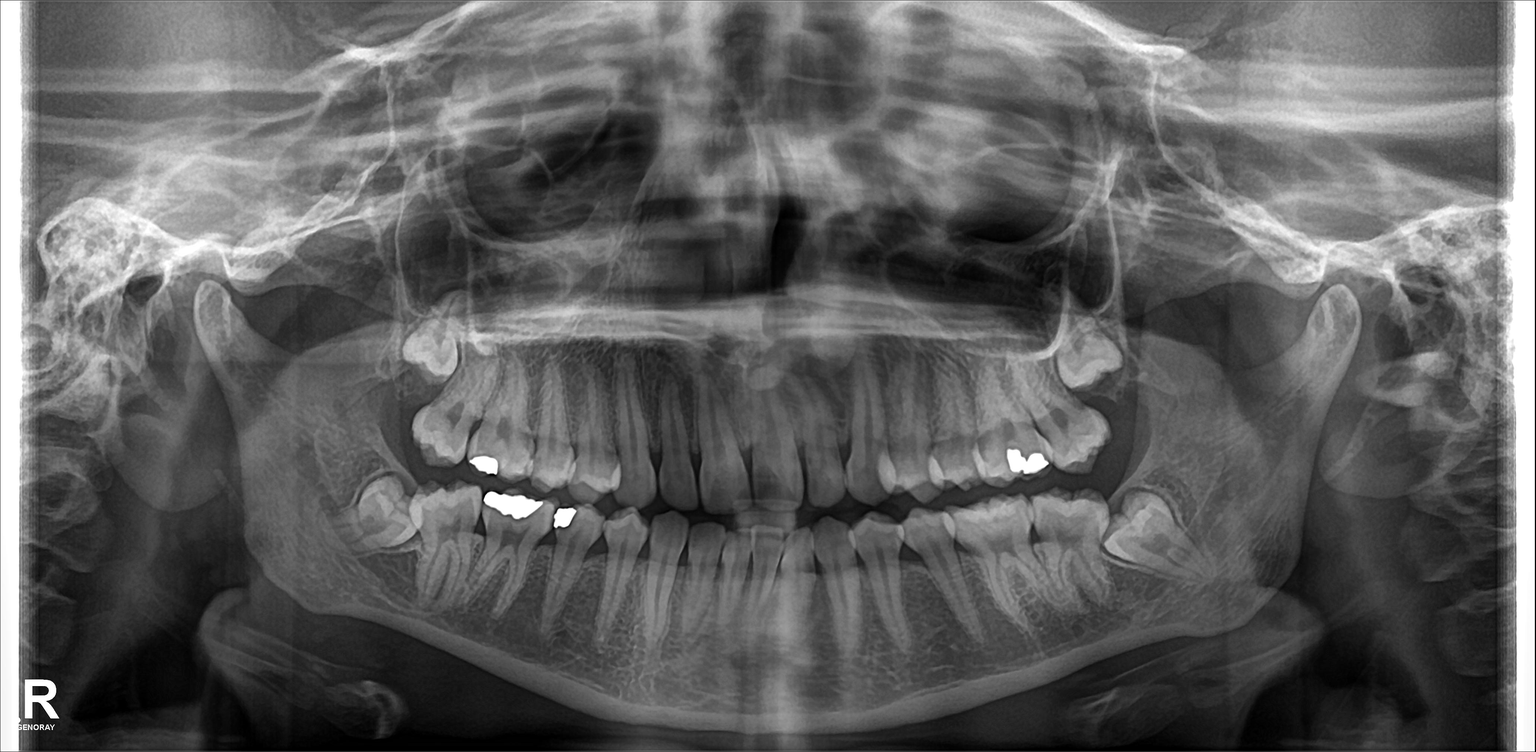Dental Caries: (978, 423, 1040, 469)
Impacted Third Molar: (1111, 484, 1186, 569), (343, 486, 419, 554), (387, 322, 469, 381), (1050, 322, 1119, 380)
